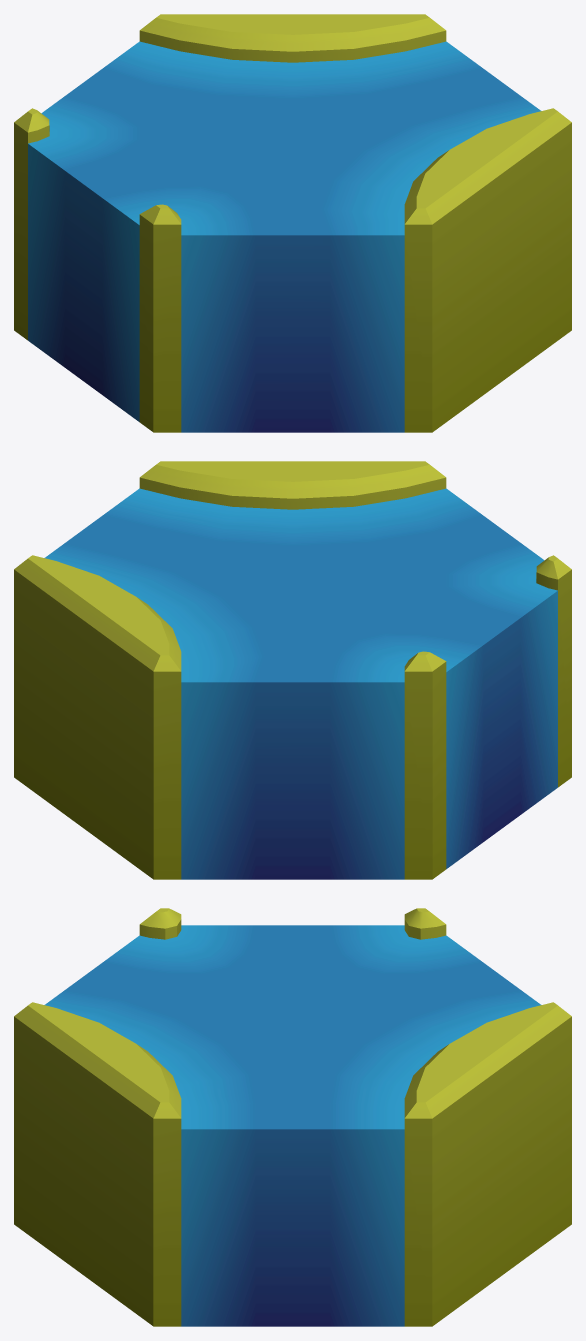
File: kaykit-medieval-hexagon-pack-hex-river-h.glb
3 views of the same model, one above another, from view 1: azimuth 30°, elevation 25°; view 2: azimuth 150°, elevation 25°; view 3: azimuth 270°, elevation 25° (orthographic).
Parts seen in each view (by area): view 1: hex_river_H; view 2: hex_river_H; view 3: hex_river_H.
Part boxes in pixels (box(x1,y1,x2,y2)): hex_river_H: box(14, 14, 571, 432); hex_river_H: box(14, 461, 571, 879); hex_river_H: box(14, 908, 571, 1326).
Bounding box in the file's own units: 2 × 1 × 2.31.
Materials: 1 (1 with a texture image).
